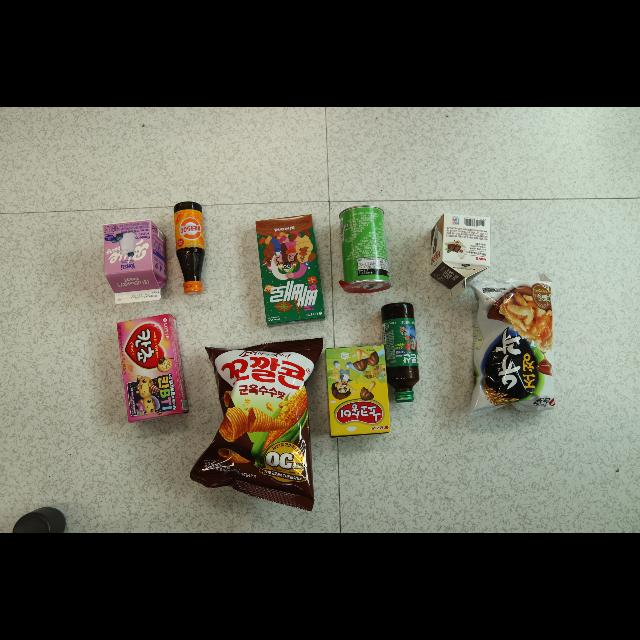bongji: (191, 339, 322, 511), (470, 275, 557, 418)
box: (255, 214, 326, 326), (116, 314, 189, 422), (326, 345, 391, 438)
canSnack: (339, 205, 391, 294)
energdrink: (382, 303, 419, 402), (173, 201, 204, 294)
milk: (102, 220, 166, 303), (431, 213, 491, 295)
